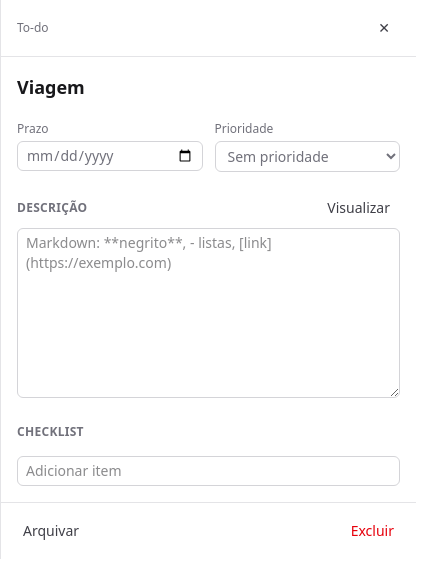
CardPanel › HTML cru na descrição aparece como texto, sem criar elementos
Type "<b>cru</b> <img src=\"x\" onerror=\"alert(1)\">" into the text box named "Descrição".
click(208, 313); type("<b>cru</b> <img src=\"x\" onerror=\"alert(1)\">")  # box [17,228,400,398]
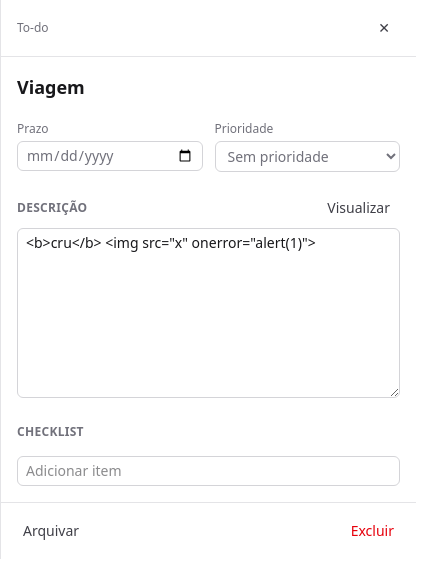
Click the button "Visualizar".
click(359, 208)  # box [317,192,400,224]
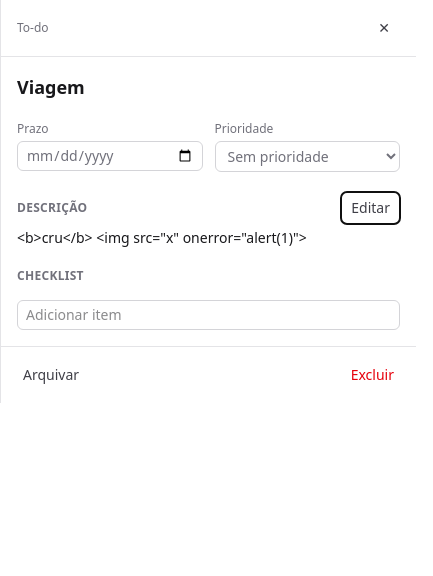
Expected: the text "<b>cru</b> <img src=\"x\" onerror=\"alert(1)\">" is shown, [17,228,307,247]
